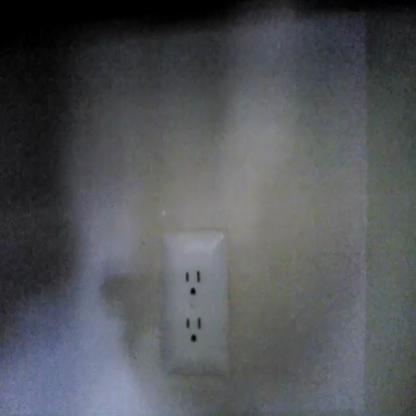OUTLET: (162, 230, 230, 378)
